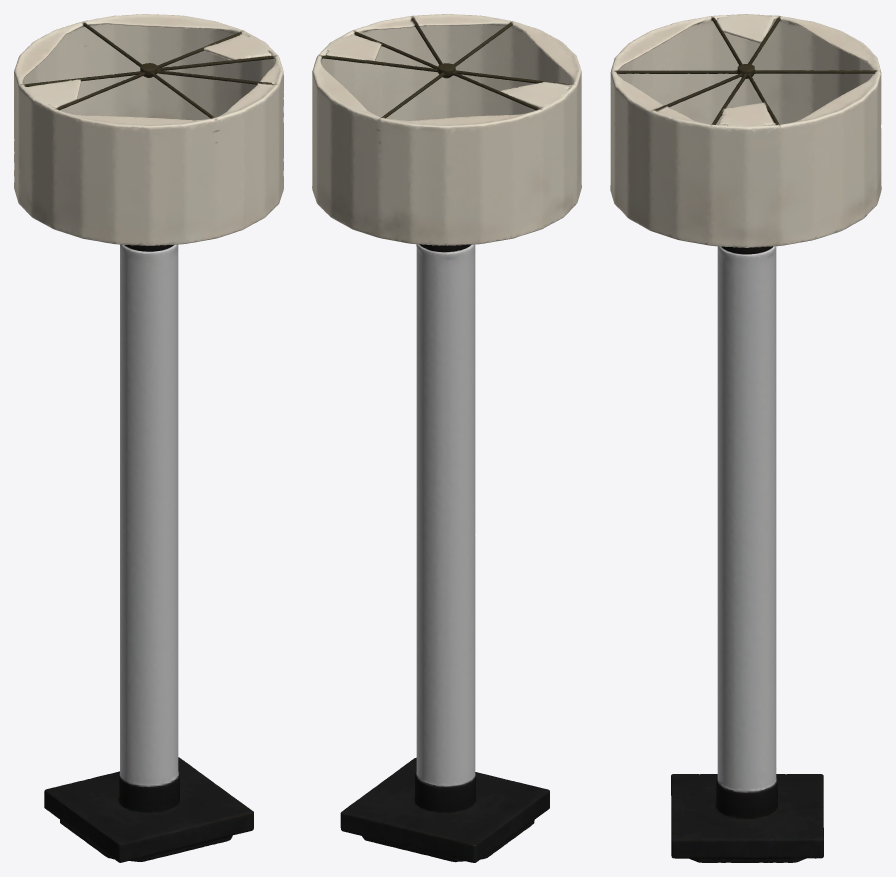
The picture shows the model from 3 angles, left to right: view 1: azimuth 30°, elevation 25°; view 2: azimuth 150°, elevation 25°; view 3: azimuth 270°, elevation 25°; orthographic projection.
Visible parts, largest first — view 1: geometry_0; view 2: geometry_0; view 3: geometry_0.
Part boxes in pixels (left/top/right/bottom): geometry_0: left=14, top=14, right=283, bottom=862; geometry_0: left=312, top=14, right=581, bottom=862; geometry_0: left=610, top=14, right=881, bottom=862.
Bounding box in the file's own units: 0.3225 × 0.9999 × 0.3219.
Materials: 1 (1 with a texture image).
